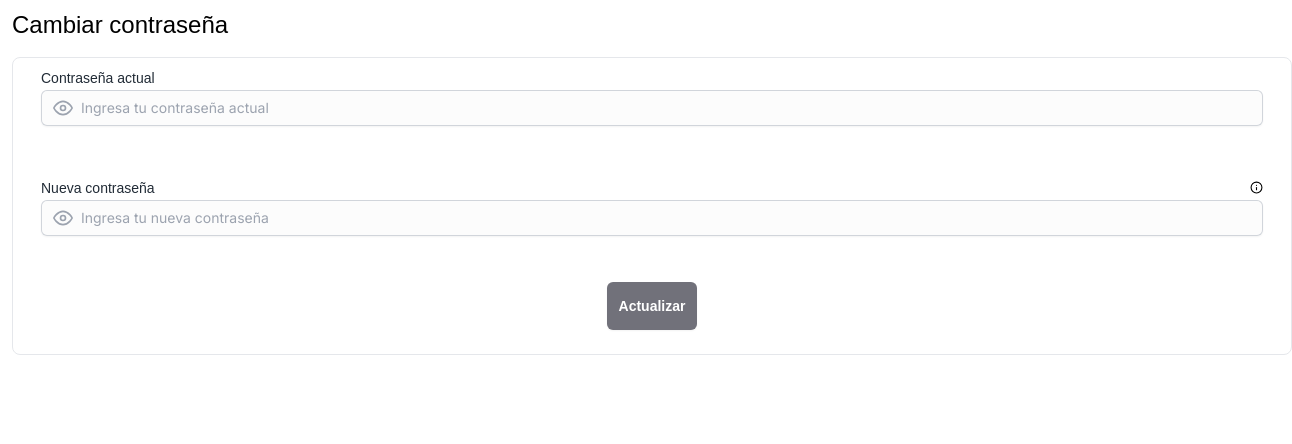
<ChangePasswordSection /> › throws invalid password error if password doesn't meet requirements
This screenshot has width=1292, height=444.
In the password field labelled "Contraseña actual": (652, 108) top-left (41, 90), bottom-right (1263, 126), type "oldPassword"
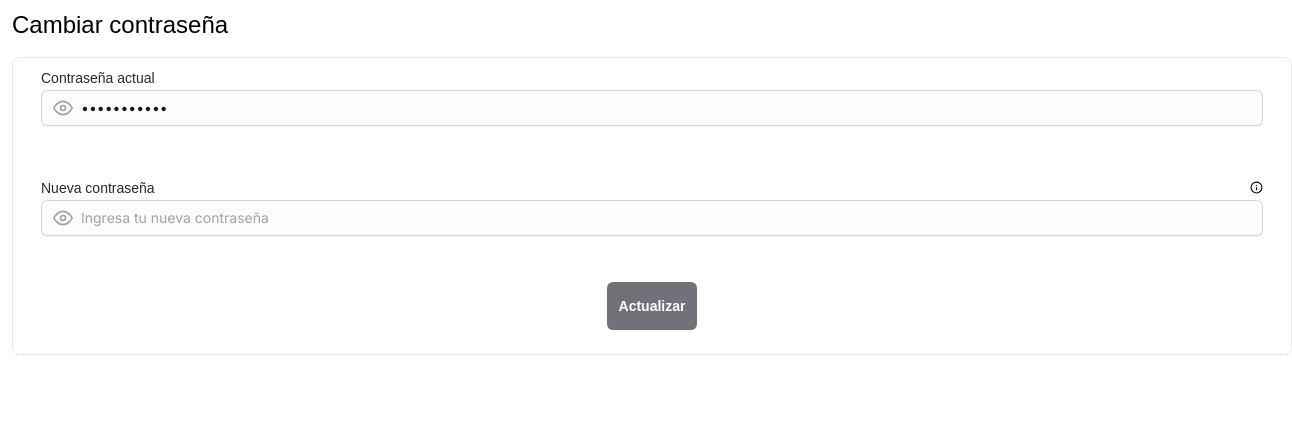
In the password field labelled "Nueva contraseña": (652, 218) top-left (41, 200), bottom-right (1263, 236), type "newpassword"
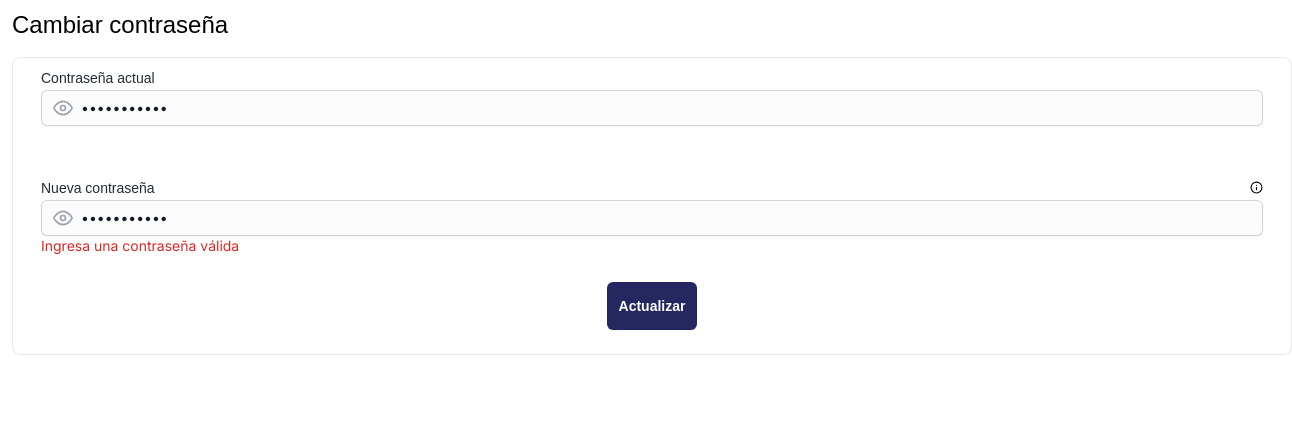
Click the button "Actualizar": (652, 306) top-left (606, 282), bottom-right (697, 330)
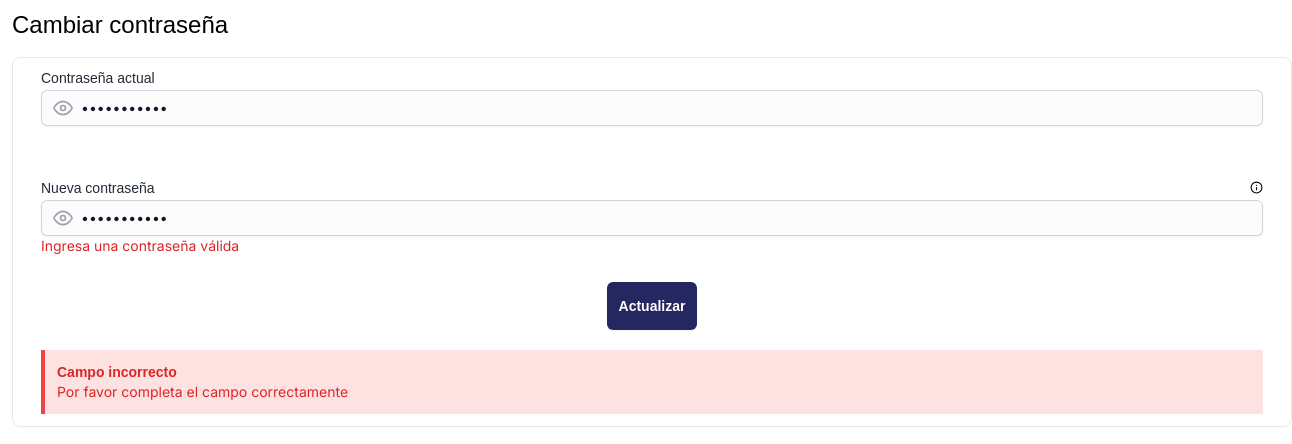
Check: the message "Campo incorrecto Por favor completa el campo correctamente" is shown, box top-left (41, 350), bottom-right (1263, 414)
Check: the message shows "Por favor completa el campo correctamente", box top-left (57, 383), bottom-right (348, 400)
